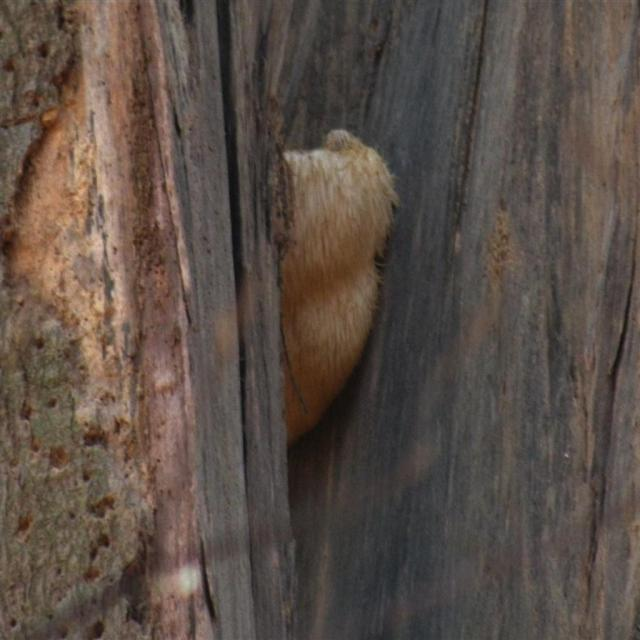Hericium erinaceus: (277, 133, 400, 435)
